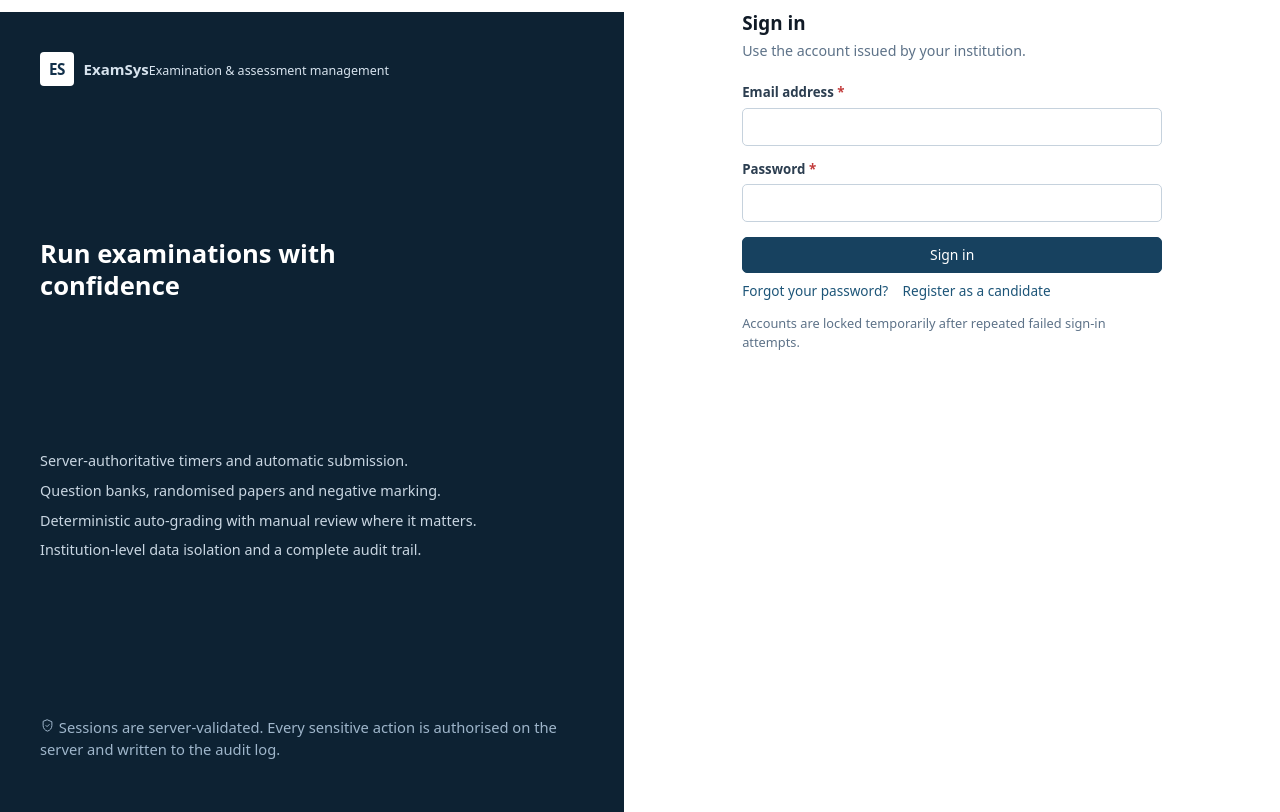
Test: sign-in flow › refuses to continue when the session cannot be confirmed, and says why
Type "demo.admin@northgate.edu" into the field labelled "Email address" at (952, 127), box [742,108,1162,146]
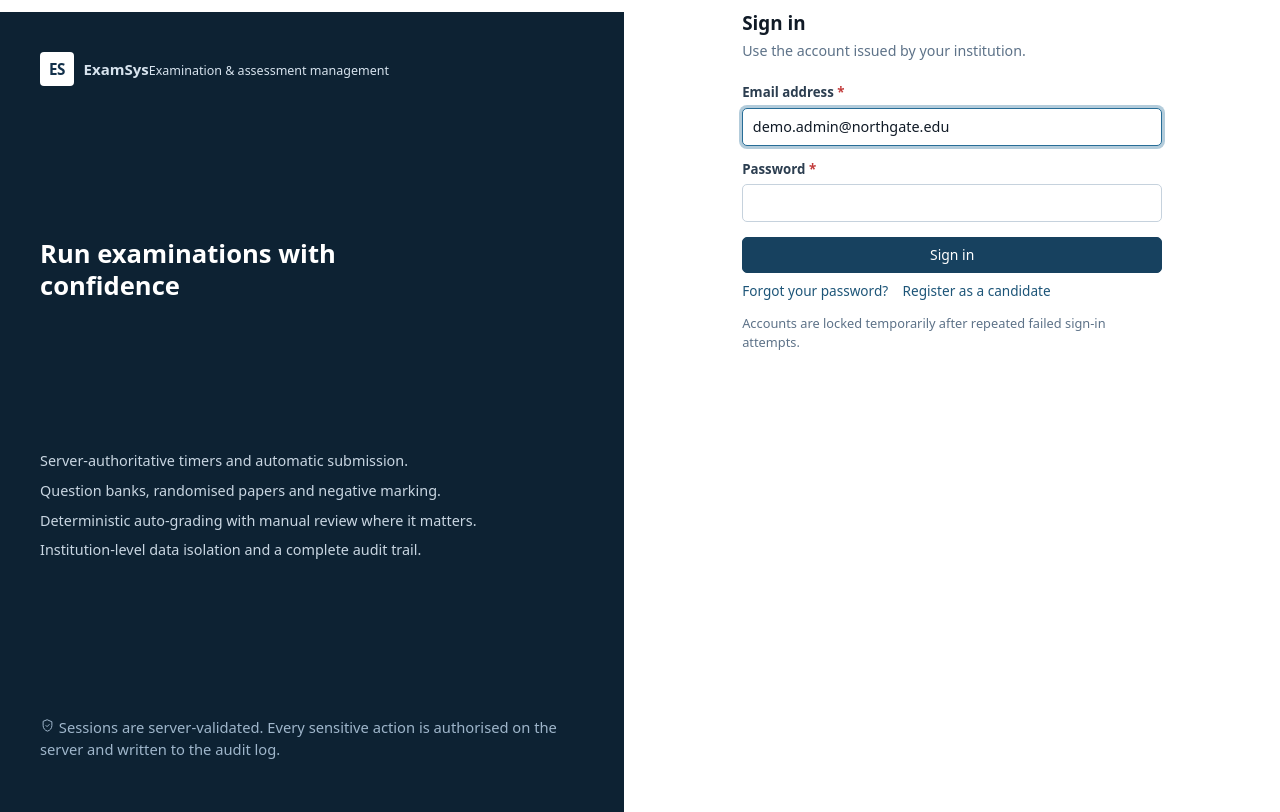
Type "Demo-Password1" into the password field labelled "Password" at (952, 204), box [742,184,1162,222]
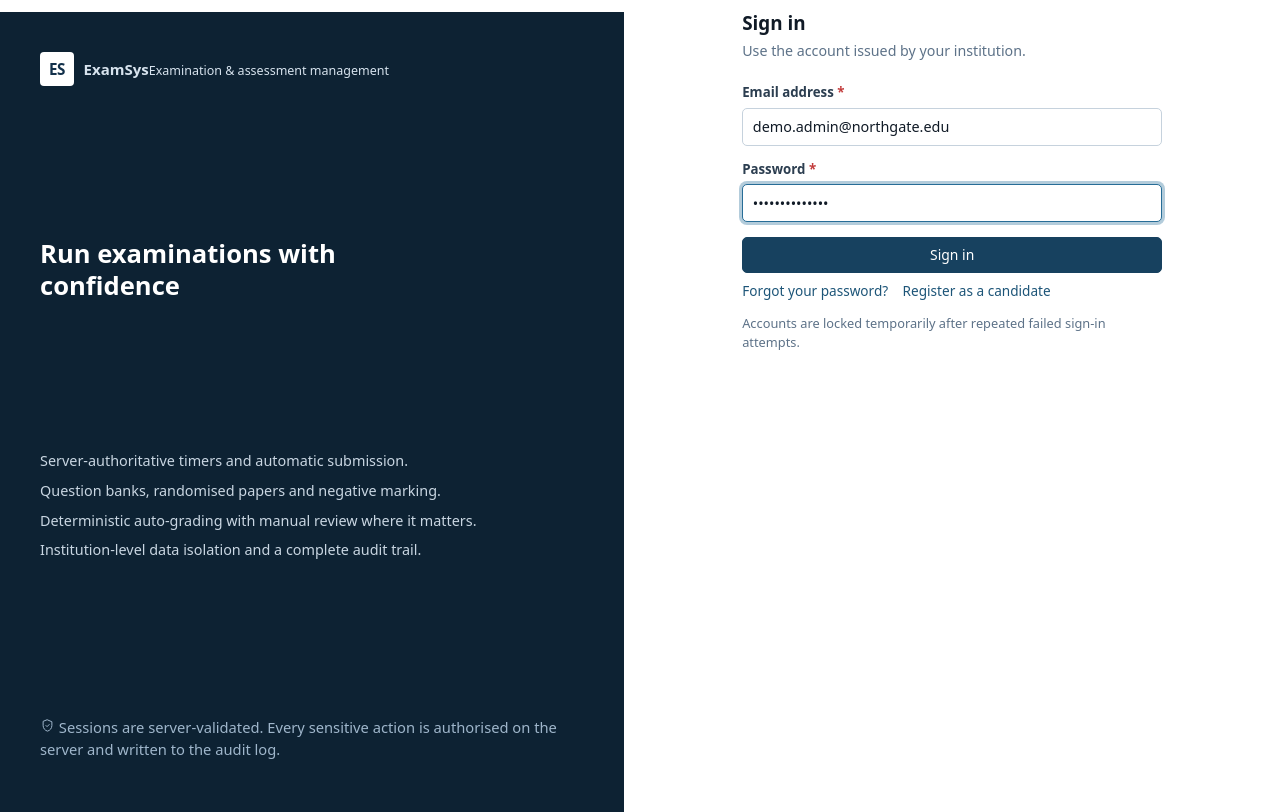
Click the button "Sign in" at (952, 255), box [742,237,1162,273]
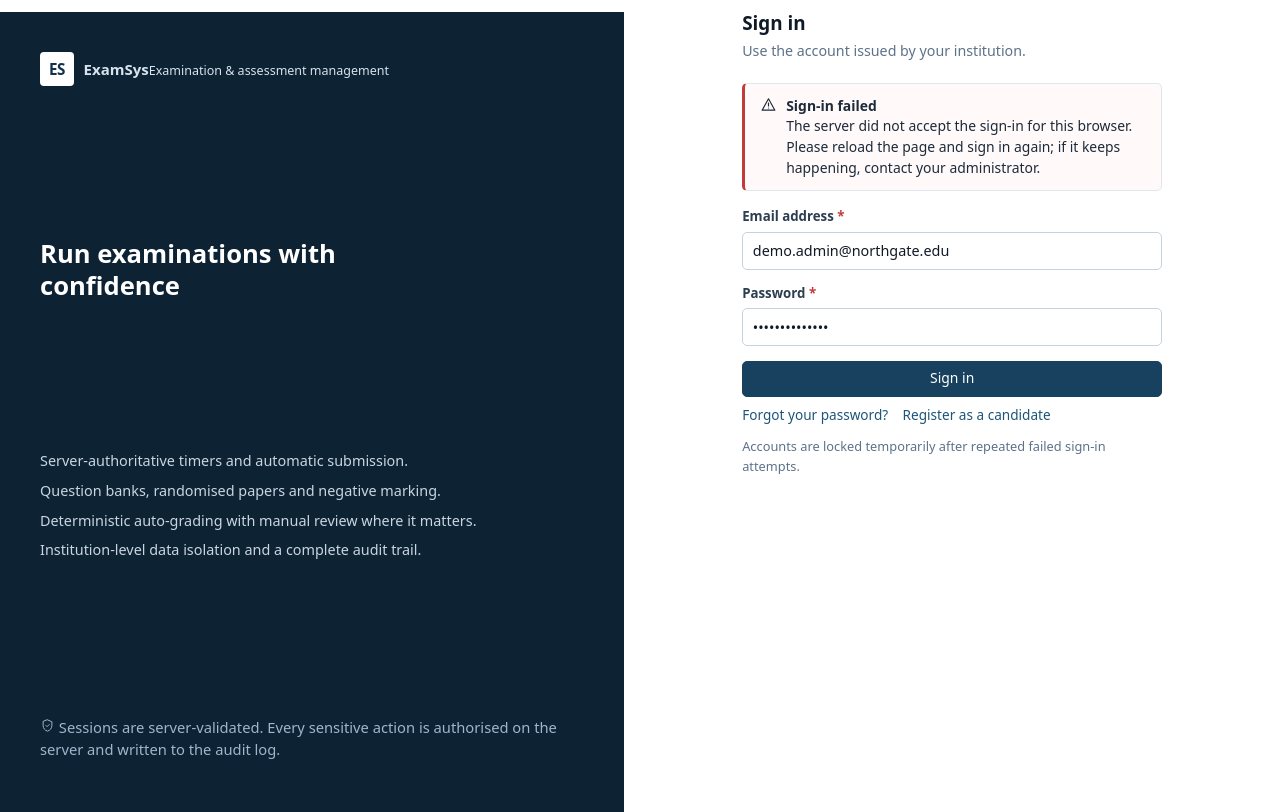
Result: the message shows "did not accept the sign-in" at [786,116,1132,177]
